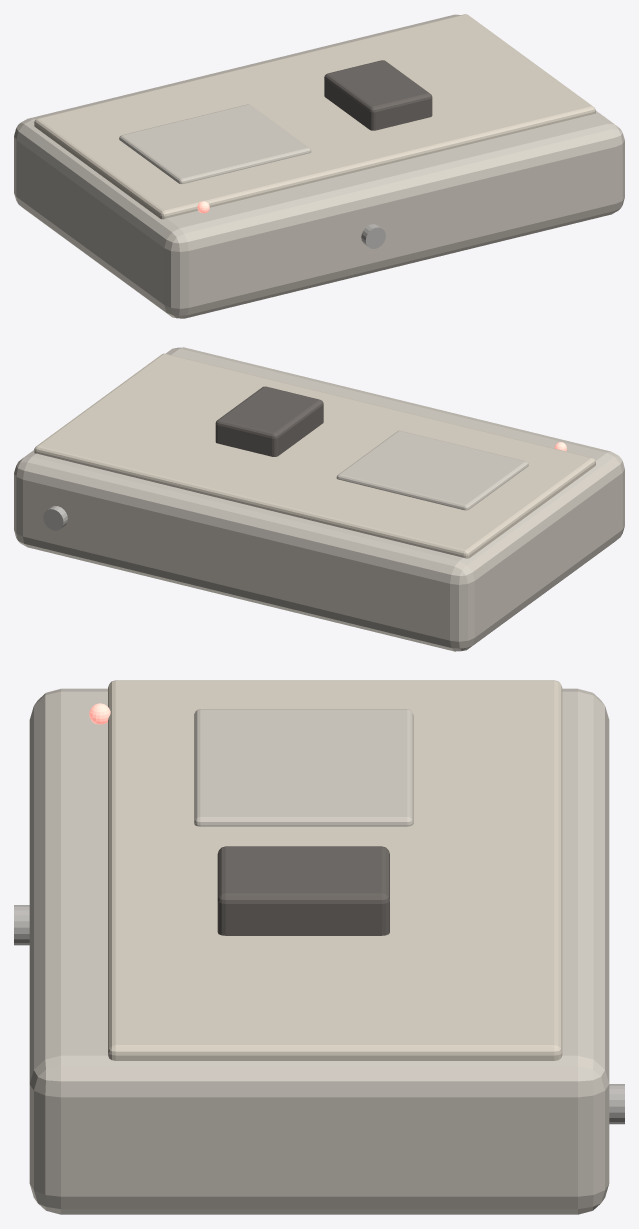
File: console.glb
3 renders of one model, top to bottom at view 1: azimuth 30°, elevation 25°; view 2: azimuth 150°, elevation 25°; view 3: azimuth 270°, elevation 25°, orthographic. The views are drawn at different scales.
Visible parts, largest first — view 1: ConsoleBody, ConsoleDeck, Door, SlotWell, PortController; view 2: ConsoleBody, ConsoleDeck, Door, SlotWell, PortAv; view 3: ConsoleBody, ConsoleDeck, Door, SlotWell.
Part boxes in pixels (box(x1,y1,x2,y2)): ConsoleBody: box(14, 14, 624, 318); ConsoleDeck: box(34, 14, 595, 219); Door: box(119, 104, 311, 183); SlotWell: box(324, 60, 432, 130); PortController: box(361, 224, 385, 248); ConsoleBody: box(14, 347, 624, 651); ConsoleDeck: box(34, 353, 595, 558); Door: box(336, 430, 528, 510); SlotWell: box(215, 386, 323, 456); PortAv: box(43, 506, 67, 530); ConsoleBody: box(29, 688, 609, 1214); ConsoleDeck: box(108, 680, 562, 1060); Door: box(194, 709, 413, 826); SlotWell: box(217, 846, 389, 935).
Bounding box in the file's own units: 1.18 × 0.29 × 0.78.
